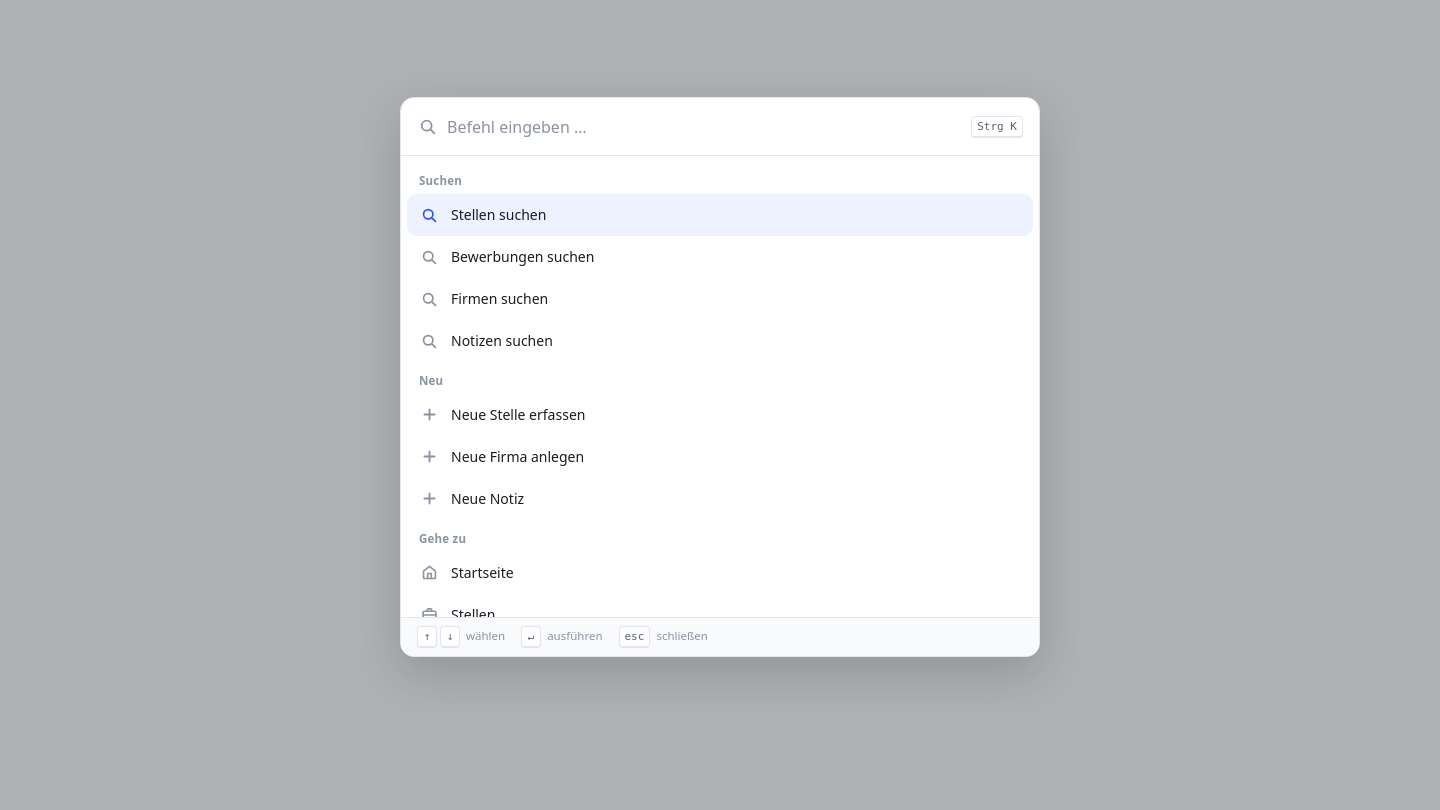
Scenario: CommandPalette › meldet, wenn kein Befehl passt
The image size is (1440, 810).
Type "xyz" into the dropdown named "Befehl oder Suche".
click(704, 127); type("xyz")  # box [447, 107, 961, 147]
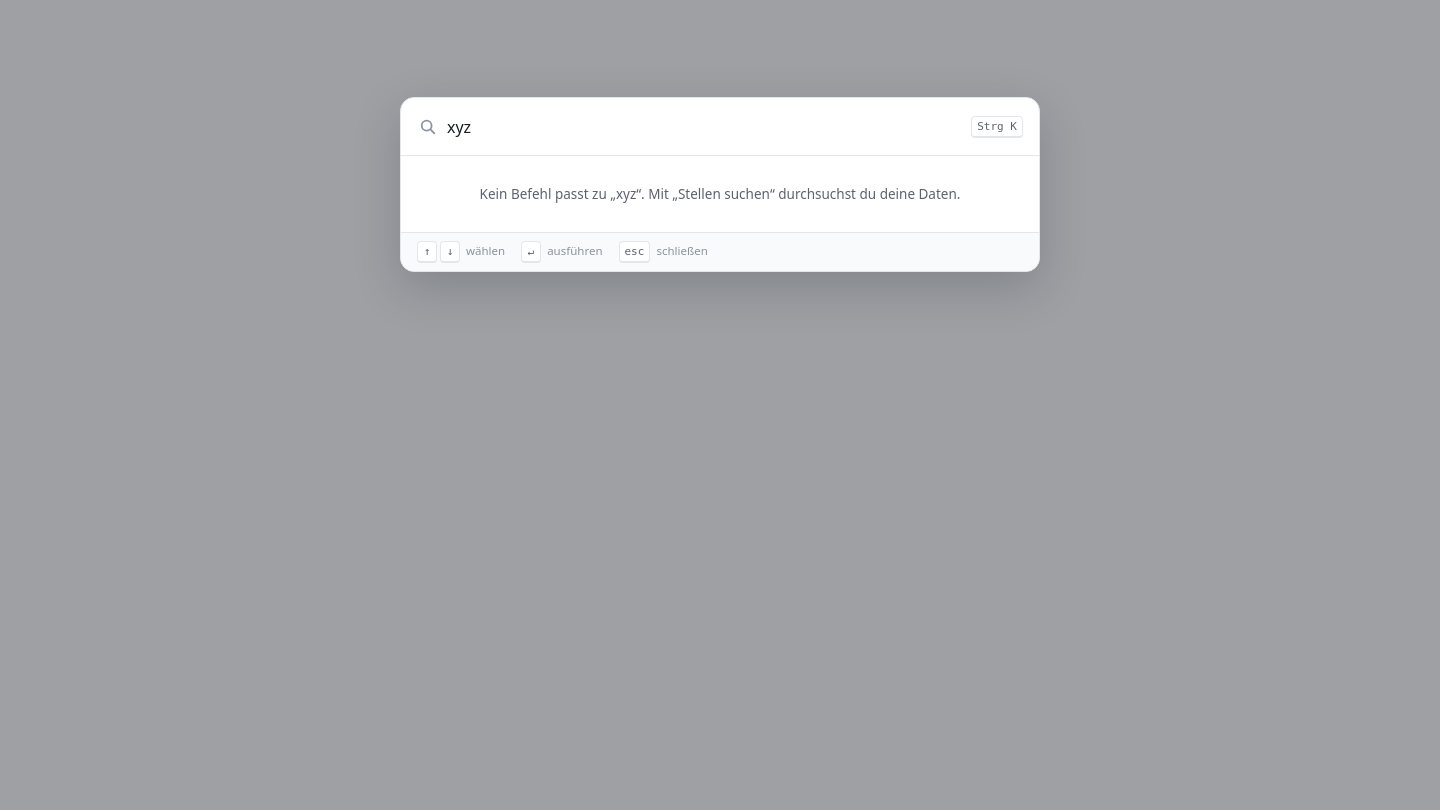
expect the text "Kein Befehl passt zu „xyz“" is shown: met, box [480, 185, 960, 203]
